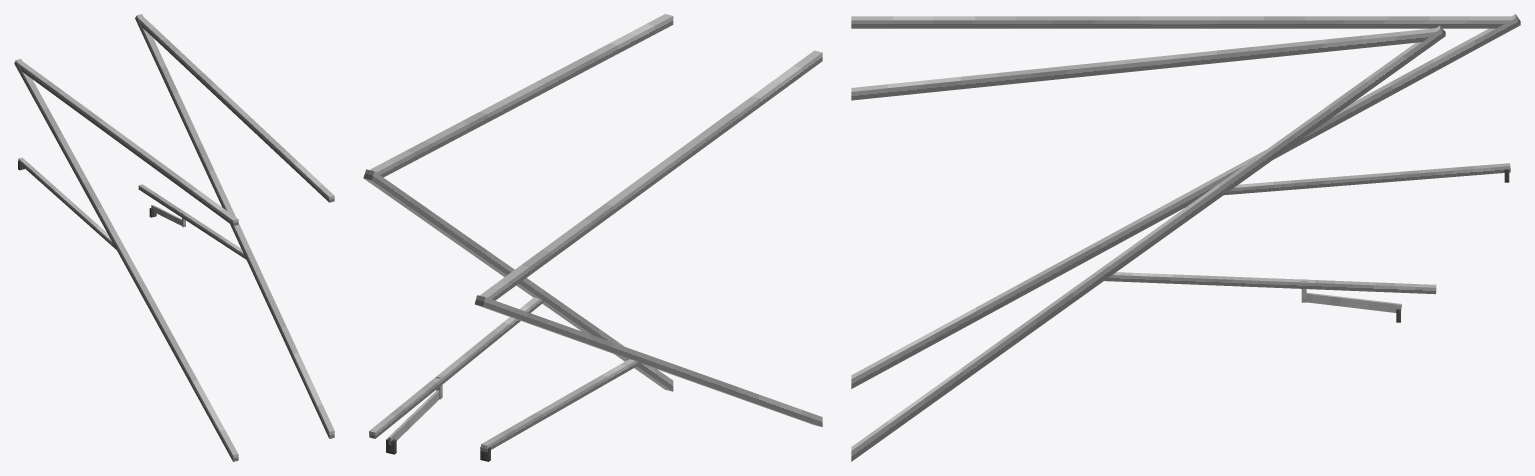
The model's file is cantilever_inner_4px.obj.
The picture shows the model from 3 angles, left to right: view 1: azimuth 30°, elevation 25°; view 2: azimuth 150°, elevation 25°; view 3: azimuth 270°, elevation 25°; orthographic projection. The views are drawn at different scales.
Visible parts, largest first — view 1: c3edce91-b08f-434f-a70e-1b267fc460dc, 5a48b57b-0dab-4727-800f-f1a845038403, 89a5f709-33aa-4edd-b050-2498f7187482, 32ff6d3c-42c5-4e18-ba61-8fbcb3da2721, 650c5500-fb86-4198-a9d3-fd8bbc2317a4, f8cc0388-3475-43e9-a8a9-c605a139556d; view 2: 89a5f709-33aa-4edd-b050-2498f7187482, 32ff6d3c-42c5-4e18-ba61-8fbcb3da2721, c3edce91-b08f-434f-a70e-1b267fc460dc, 5a48b57b-0dab-4727-800f-f1a845038403, 650c5500-fb86-4198-a9d3-fd8bbc2317a4, f8cc0388-3475-43e9-a8a9-c605a139556d, 638db740-c3b2-4c5d-b30b-263530fd9a8a; view 3: 5a48b57b-0dab-4727-800f-f1a845038403, 89a5f709-33aa-4edd-b050-2498f7187482, c3edce91-b08f-434f-a70e-1b267fc460dc, 32ff6d3c-42c5-4e18-ba61-8fbcb3da2721, 650c5500-fb86-4198-a9d3-fd8bbc2317a4, f8cc0388-3475-43e9-a8a9-c605a139556d, 638db740-c3b2-4c5d-b30b-263530fd9a8a.
Part boxes in pixels (<box>): c3edce91-b08f-434f-a70e-1b267fc460dc: <box>14,59,238,461</box>; 5a48b57b-0dab-4727-800f-f1a845038403: <box>135,14,334,438</box>; 89a5f709-33aa-4edd-b050-2498f7187482: <box>17,61,238,225</box>; 32ff6d3c-42c5-4e18-ba61-8fbcb3da2721: <box>138,16,334,202</box>; 650c5500-fb86-4198-a9d3-fd8bbc2317a4: <box>138,184,246,259</box>; f8cc0388-3475-43e9-a8a9-c605a139556d: <box>18,157,116,249</box>; 89a5f709-33aa-4edd-b050-2498f7187482: <box>480,50,822,300</box>; 32ff6d3c-42c5-4e18-ba61-8fbcb3da2721: <box>370,14,673,177</box>; c3edce91-b08f-434f-a70e-1b267fc460dc: <box>475,295,822,426</box>; 5a48b57b-0dab-4727-800f-f1a845038403: <box>363,169,673,391</box>; 650c5500-fb86-4198-a9d3-fd8bbc2317a4: <box>369,297,543,438</box>; f8cc0388-3475-43e9-a8a9-c605a139556d: <box>480,359,641,452</box>; 638db740-c3b2-4c5d-b30b-263530fd9a8a: <box>388,390,439,445</box>; 5a48b57b-0dab-4727-800f-f1a845038403: <box>851,25,1445,461</box>; 89a5f709-33aa-4edd-b050-2498f7187482: <box>851,16,1511,28</box>; c3edce91-b08f-434f-a70e-1b267fc460dc: <box>851,14,1520,388</box>; 32ff6d3c-42c5-4e18-ba61-8fbcb3da2721: <box>851,28,1436,100</box>; 650c5500-fb86-4198-a9d3-fd8bbc2317a4: <box>1104,272,1436,294</box>; f8cc0388-3475-43e9-a8a9-c605a139556d: <box>1224,163,1510,195</box>; 638db740-c3b2-4c5d-b30b-263530fd9a8a: <box>1306,292,1401,312</box>.
Size of the model in its own units: 1.19 by 3.16 by 4.43.
